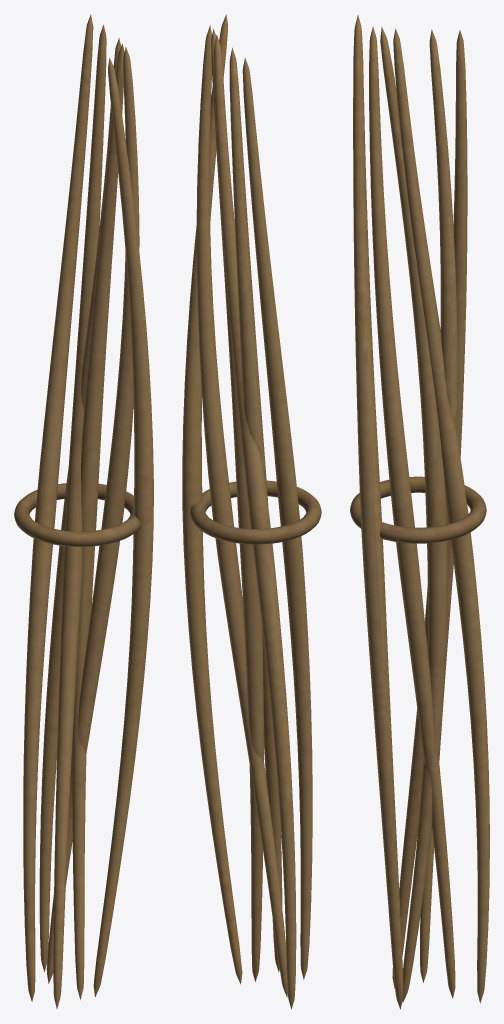
Rendered from sinew.glb.
3 views of the same model, side by side, from view 1: azimuth 30°, elevation 25°; view 2: azimuth 210°, elevation 25°; view 3: azimuth 270°, elevation 25° (orthographic). The views are drawn at different scales.
Visible parts, largest first — view 1: sinew; view 2: sinew; view 3: sinew.
Part boxes in pixels (x1=…): sinew: x1=14, y1=14, x2=153, y2=1009; sinew: x1=182, y1=14, x2=321, y2=1009; sinew: x1=350, y1=14, x2=489, y2=1009.
Bounding box in the file's own units: 0.0272 × 0.218 × 0.0278.
Materials: 1 (1 with a texture image).
